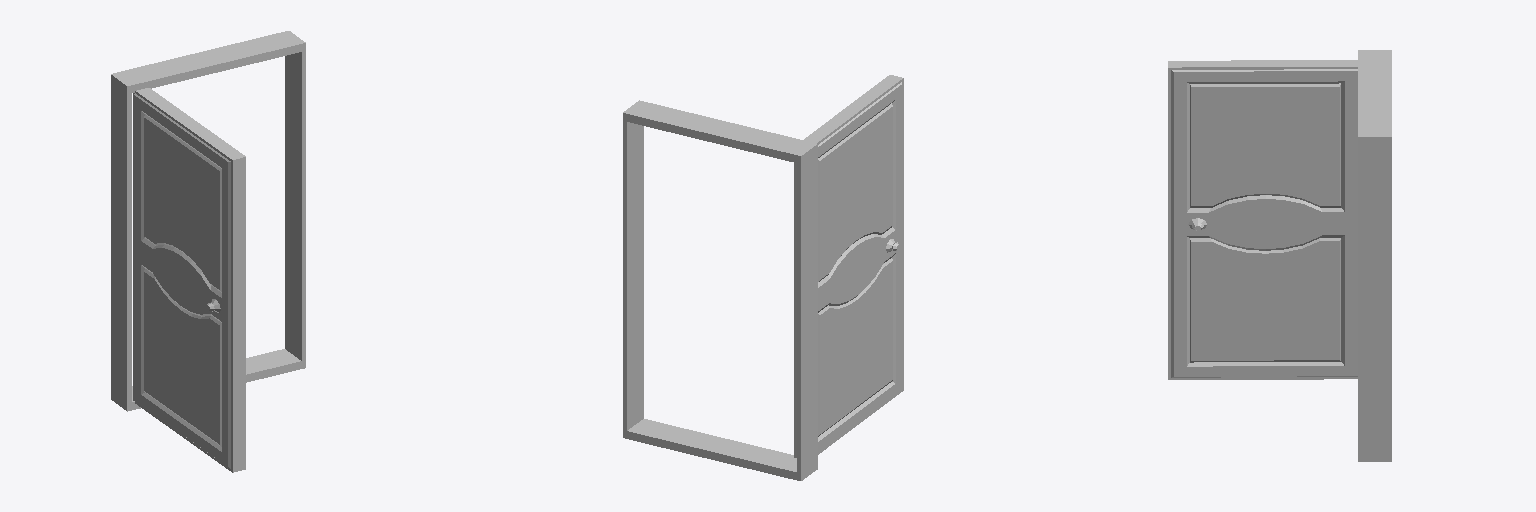
Rendered from drzwiok_000005.obj.
3 views of the same model, side by side, from view 1: azimuth 30°, elevation 25°; view 2: azimuth 150°, elevation 25°; view 3: azimuth 270°, elevation 25° (orthographic).
Visible parts, largest first — view 1: Door_4.001_Cube.001, Kostka; view 2: Door_4.001_Cube.001, Kostka; view 3: Door_4.001_Cube.001, Kostka.
Boxes of the visible parts, x1=… form: Door_4.001_Cube.001: x1=133, y1=88, x2=245, y2=472; Kostka: x1=111, y1=31, x2=305, y2=411; Door_4.001_Cube.001: x1=794, y1=75, x2=903, y2=457; Kostka: x1=623, y1=100, x2=817, y2=480; Door_4.001_Cube.001: x1=1168, y1=60, x2=1357, y2=379; Kostka: x1=1358, y1=50, x2=1391, y2=461.
Size of the model in its own units: 0.7416 by 1.29 by 0.8088.